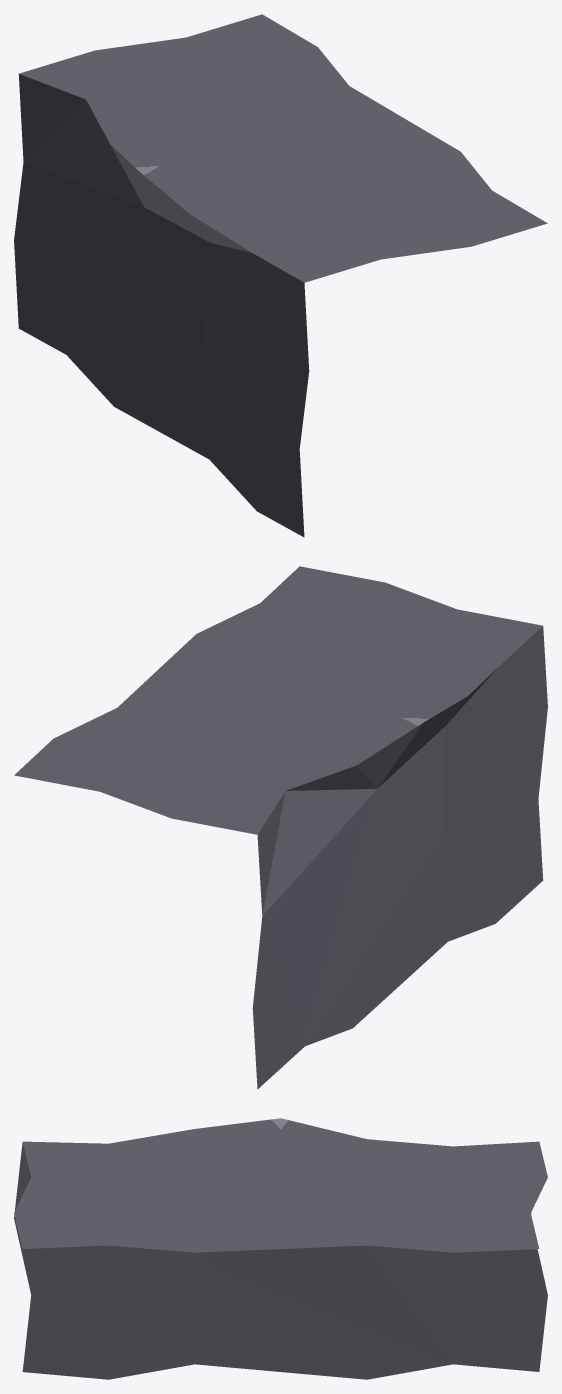
Rendered from HalfFloorCorner_01.fbx.
The picture shows the model from 3 angles, top to bottom: view 1: azimuth 30°, elevation 25°; view 2: azimuth 150°, elevation 25°; view 3: azimuth 270°, elevation 25°; orthographic projection. The views are drawn at different scales.
Visible parts, largest first — view 1: HalfFloorCorner_01; view 2: HalfFloorCorner_01; view 3: HalfFloorCorner_01.
Boxes of the visible parts, x1=… form: HalfFloorCorner_01: x1=14, y1=14, x2=547, y2=537; HalfFloorCorner_01: x1=14, y1=566, x2=547, y2=1089; HalfFloorCorner_01: x1=14, y1=1118, x2=547, y2=1379.
Bounding box in the file's own units: 55.74 × 53.61 × 103.
1 material, 1 textured.
